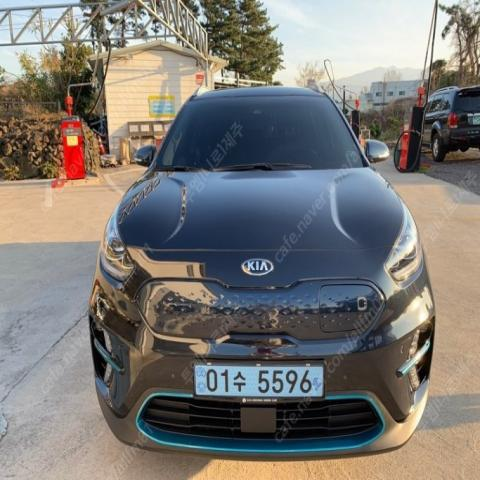LP: (186, 352, 328, 408)
